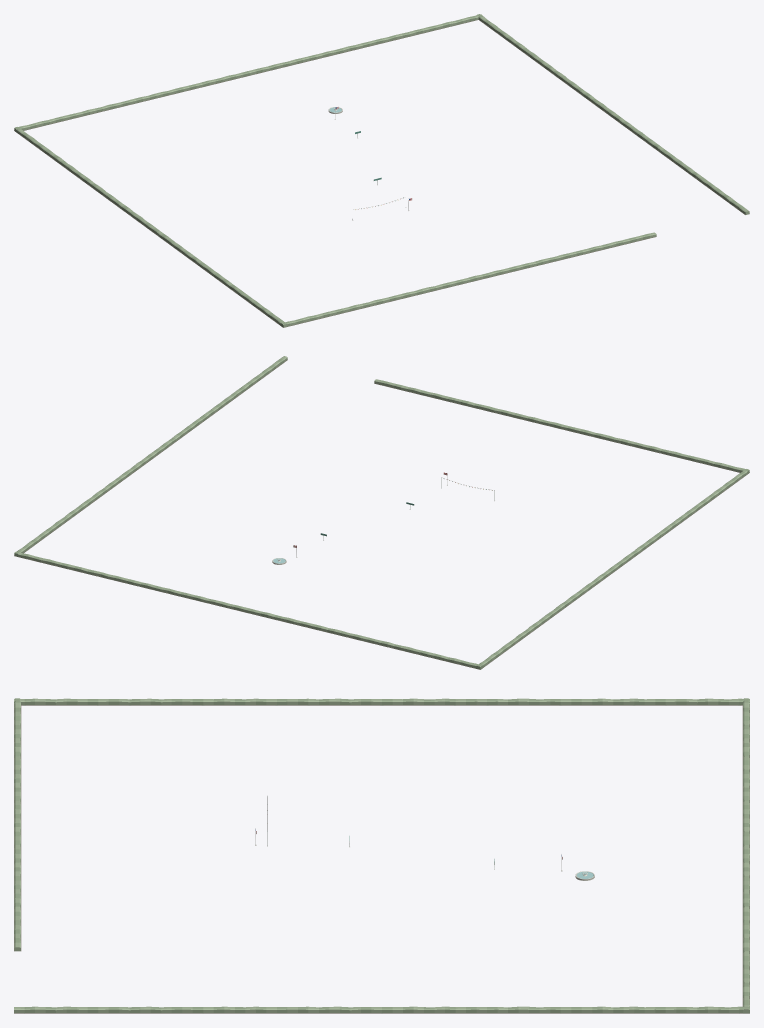
The model's file is LM_ENV_Furniture.glb.
3 renders of one model, top to bottom at view 1: azimuth 30°, elevation 25°; view 2: azimuth 150°, elevation 25°; view 3: azimuth 270°, elevation 25°, orthographic. The views are drawn at different scales.
Parts seen in each view (by area): view 1: Furniture | Hedge green deep + Hedge green, Furniture | Hedge base; view 2: Furniture | Hedge green deep + Hedge green, Furniture | Hedge base; view 3: Furniture | Hedge green deep + Hedge green, Furniture | Hedge base.
Boxes of the visible parts, left/top/right/bottom form: Furniture | Hedge green deep + Hedge green: left=14, top=14, right=749, bottom=327; Furniture | Hedge base: left=14, top=19, right=748, bottom=327; Furniture | Hedge green deep + Hedge green: left=14, top=356, right=749, bottom=669; Furniture | Hedge base: left=14, top=359, right=749, bottom=669; Furniture | Hedge green deep + Hedge green: left=14, top=698, right=749, bottom=1013; Furniture | Hedge base: left=14, top=705, right=749, bottom=1013.
Bounding box in the file's own units: 315 × 8.08 × 315.
